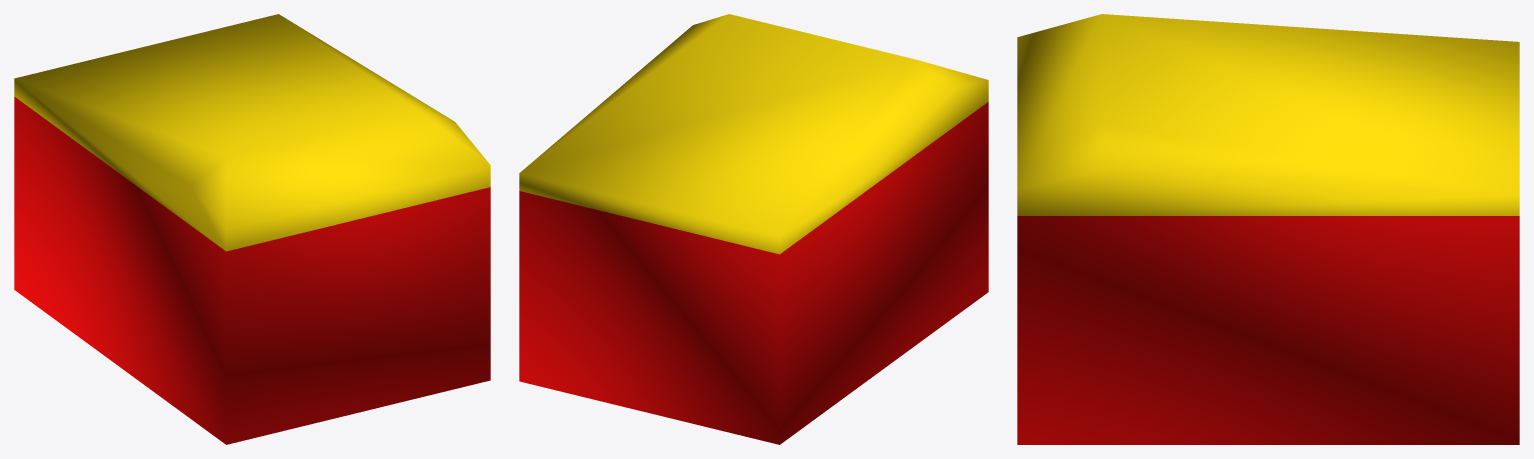
File: KinoDomowe_glosnik2 mesh.FBX
The picture shows the model from 3 angles, left to right: view 1: azimuth 30°, elevation 25°; view 2: azimuth 150°, elevation 25°; view 3: azimuth 270°, elevation 25°; orthographic projection. The views are drawn at different scales.
Parts seen in each view (by area): view 1: KinoDomowe_glosnik2 mesh; view 2: KinoDomowe_glosnik2 mesh; view 3: KinoDomowe_glosnik2 mesh.
Part boxes in pixels (x1,y1,x2,y2): KinoDomowe_glosnik2 mesh: [14, 14, 490, 444]; KinoDomowe_glosnik2 mesh: [519, 14, 988, 444]; KinoDomowe_glosnik2 mesh: [1017, 14, 1519, 444].
Bounding box in the file's own units: 0.18 × 0.25 × 0.1645.
